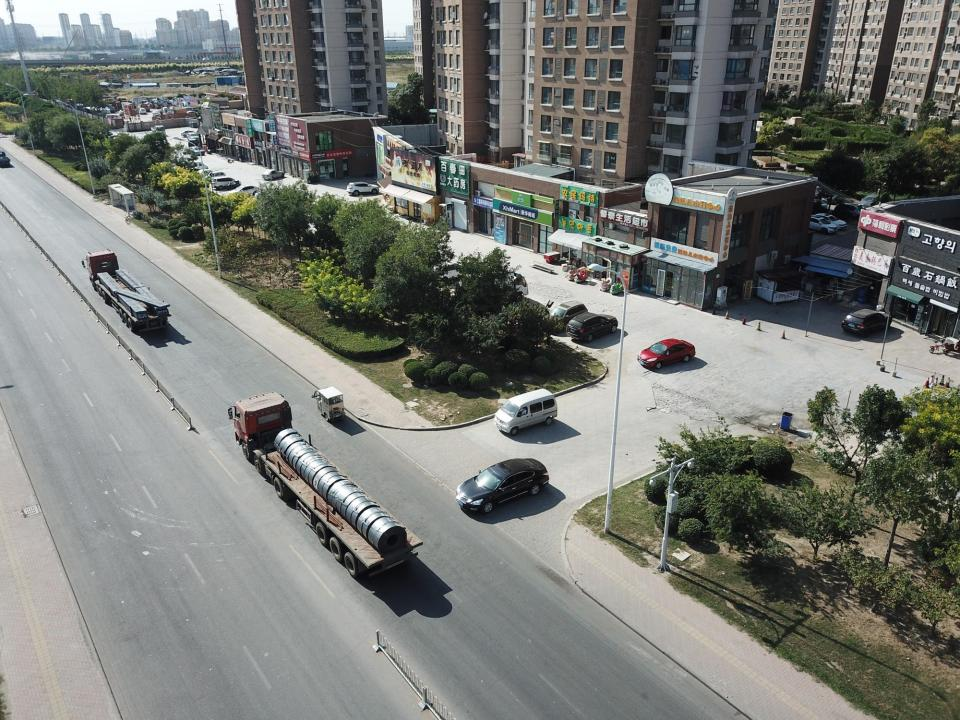car: (459, 458, 550, 512), (636, 340, 696, 371), (568, 314, 619, 344), (846, 307, 893, 337), (504, 268, 534, 296), (550, 298, 584, 320), (344, 180, 382, 198), (230, 183, 261, 194), (260, 168, 284, 180), (1, 146, 12, 172), (212, 176, 239, 186), (150, 125, 167, 136), (188, 162, 211, 170), (188, 146, 204, 156), (202, 171, 228, 177), (187, 133, 201, 142), (181, 130, 198, 136)
truck: (226, 391, 424, 579), (81, 248, 171, 332)
van: (495, 389, 557, 435)
